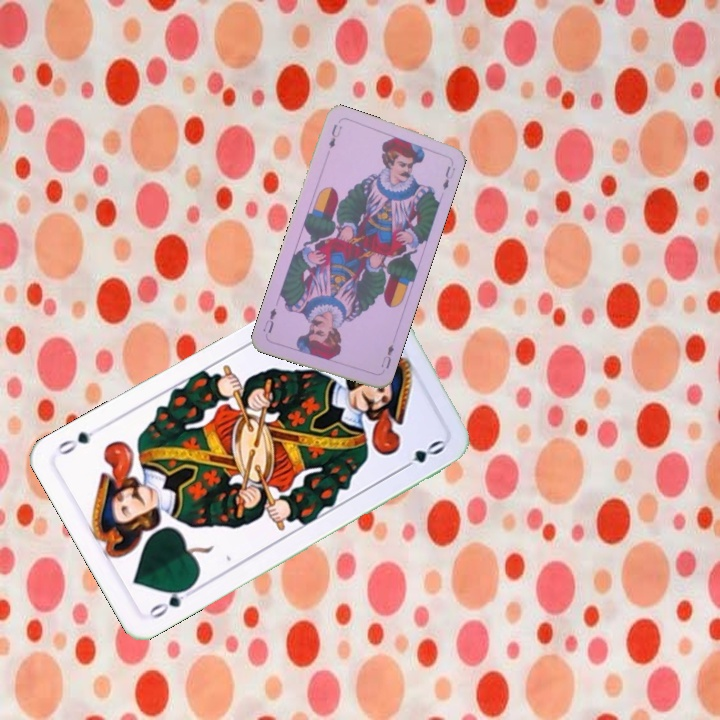EU: (325, 120, 345, 151), (377, 340, 396, 371)
GO: (145, 581, 195, 622)
